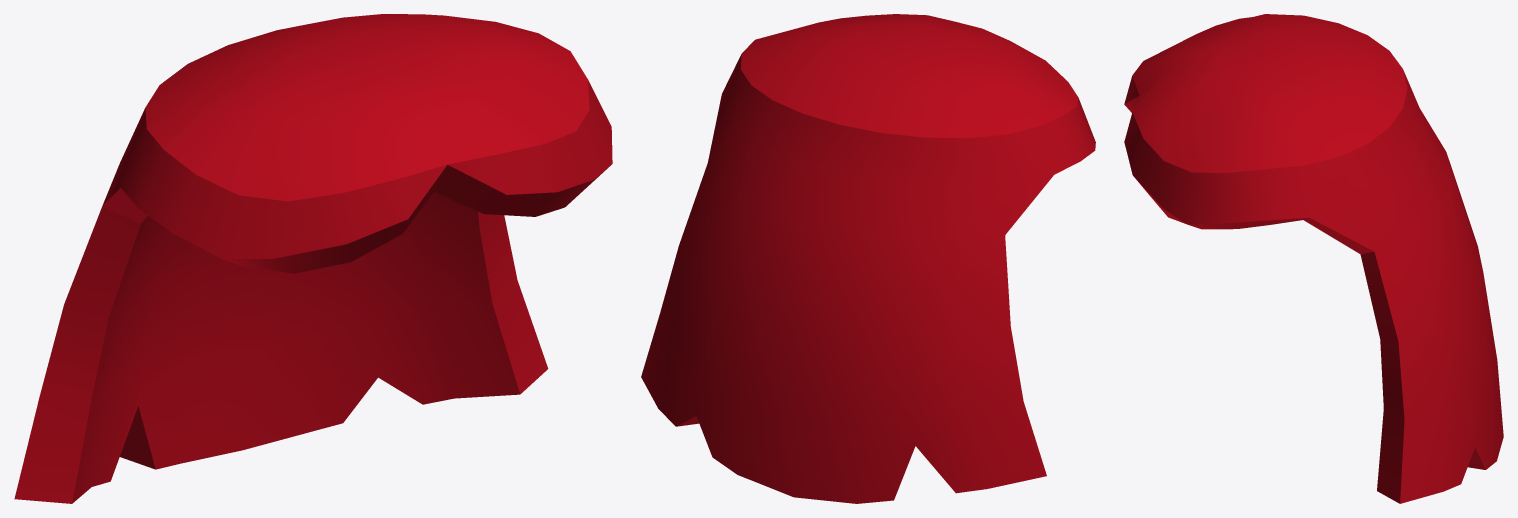
File: character_warriorCape.obj
3 views of the same model, side by side, from view 1: azimuth 30°, elevation 25°; view 2: azimuth 150°, elevation 25°; view 3: azimuth 270°, elevation 25° (orthographic). The views are drawn at different scales.
Visible parts, largest first — view 1: character_warriorCape_Cube.6414; view 2: character_warriorCape_Cube.6414; view 3: character_warriorCape_Cube.6414.
Part boxes in pixels (x1,y1,x2,y2): character_warriorCape_Cube.6414: [14, 14, 612, 503]; character_warriorCape_Cube.6414: [641, 14, 1095, 503]; character_warriorCape_Cube.6414: [1124, 14, 1503, 503].
Bounding box in the file's own units: 0.8829 × 0.7693 × 0.6941.
